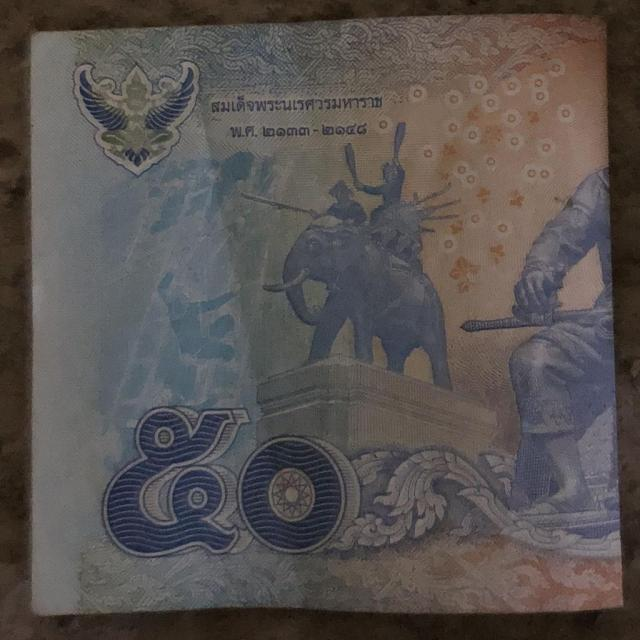THAI50: (31, 15, 621, 614)
